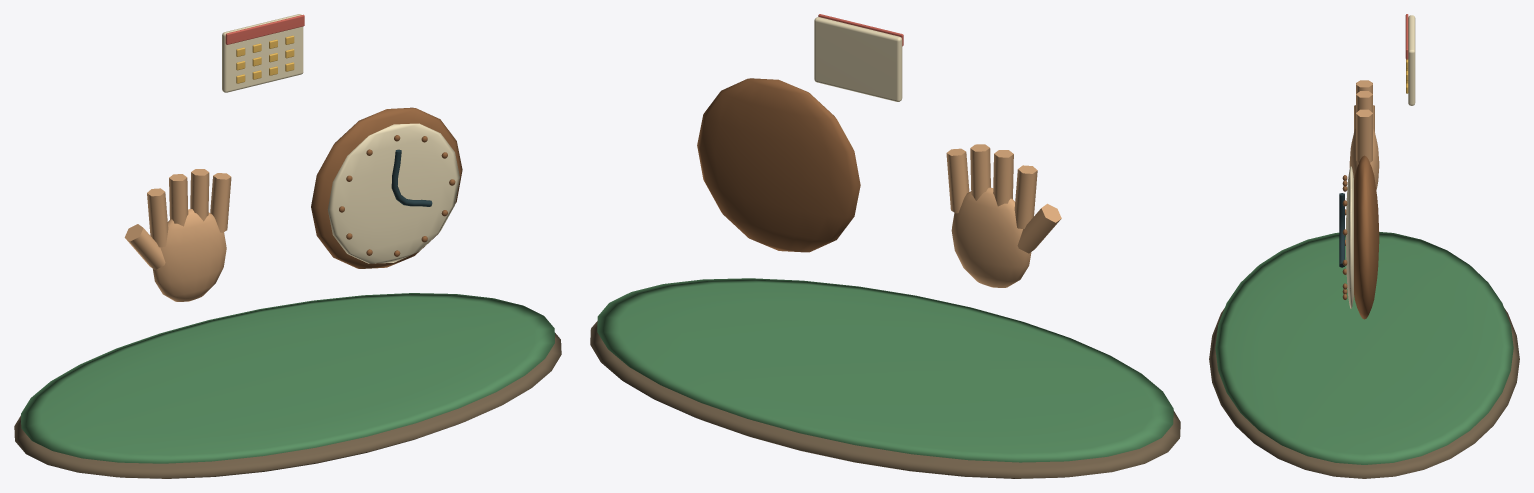
Rendered from complete-third-pushed-later.glb.
3 renders of one model, left to right at view 1: azimuth 30°, elevation 25°; view 2: azimuth 150°, elevation 25°; view 3: azimuth 270°, elevation 25°, orthographic. The views are drawn at different scales.
Visible parts, largest first — view 1: complete-third-pushed-later_surface_01, complete-third-pushed-later_surface_04, complete-third-pushed-later_surface_02, complete-third-pushed-later_surface_00, complete-third-pushed-later_surface_03, complete-third-pushed-later_surface_06, complete-third-pushed-later_surface_07, complete-third-pushed-later_surface_05; view 2: complete-third-pushed-later_surface_01, complete-third-pushed-later_surface_03, complete-third-pushed-later_surface_02, complete-third-pushed-later_surface_00, complete-third-pushed-later_surface_04; view 3: complete-third-pushed-later_surface_01, complete-third-pushed-later_surface_00, complete-third-pushed-later_surface_03, complete-third-pushed-later_surface_02, complete-third-pushed-later_surface_04, complete-third-pushed-later_surface_05.
Boxes of the visible parts, <box> form: complete-third-pushed-later_surface_01: <box>21,293,554,463</box>; complete-third-pushed-later_surface_04: <box>222,14,459,263</box>; complete-third-pushed-later_surface_02: <box>124,169,231,301</box>; complete-third-pushed-later_surface_00: <box>14,333,561,478</box>; complete-third-pushed-later_surface_03: <box>311,107,462,268</box>; complete-third-pushed-later_surface_06: <box>225,14,304,44</box>; complete-third-pushed-later_surface_07: <box>236,35,294,83</box>; complete-third-pushed-later_surface_05: <box>391,149,432,206</box>; complete-third-pushed-later_surface_01: <box>597,278,1173,462</box>; complete-third-pushed-later_surface_03: <box>697,78,860,252</box>; complete-third-pushed-later_surface_02: <box>946,144,1061,287</box>; complete-third-pushed-later_surface_00: <box>590,321,1180,478</box>; complete-third-pushed-later_surface_04: <box>814,17,902,146</box>; complete-third-pushed-later_surface_01: <box>1215,232,1513,464</box>; complete-third-pushed-later_surface_00: <box>1209,308,1519,478</box>; complete-third-pushed-later_surface_03: <box>1342,155,1379,319</box>; complete-third-pushed-later_surface_02: <box>1349,80,1379,189</box>; complete-third-pushed-later_surface_04: <box>1346,15,1415,308</box>; complete-third-pushed-later_surface_05: <box>1339,193,1344,267</box>.
Bounding box in the file's own units: 4.56 × 3.04 × 2.5.
